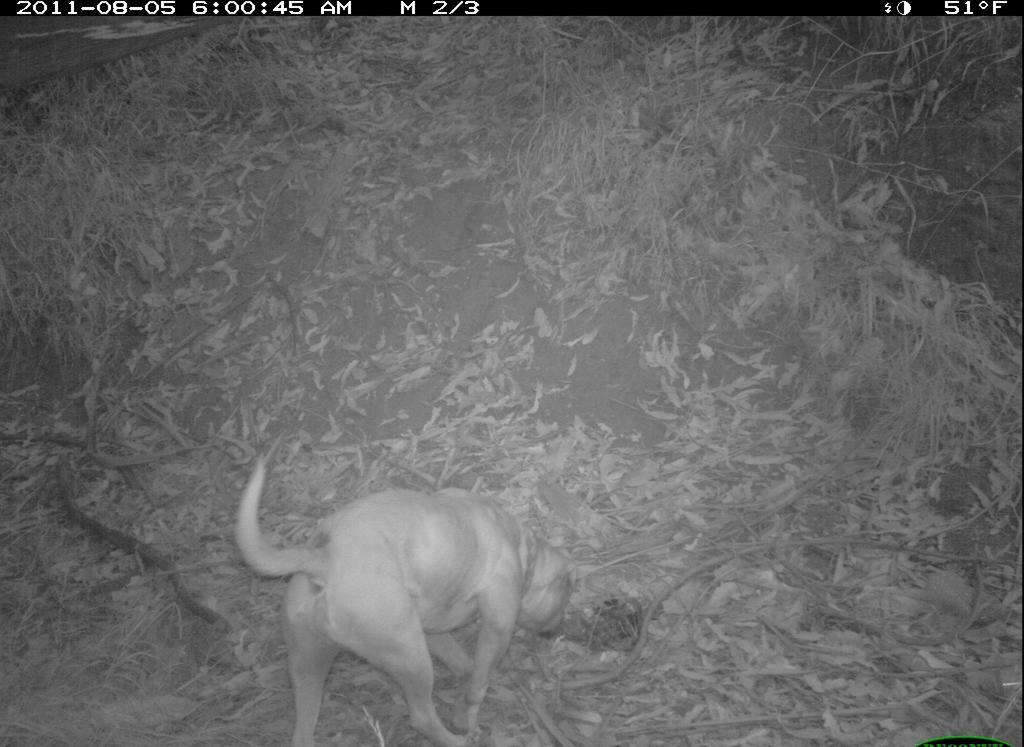dog: (204, 437, 583, 745)
